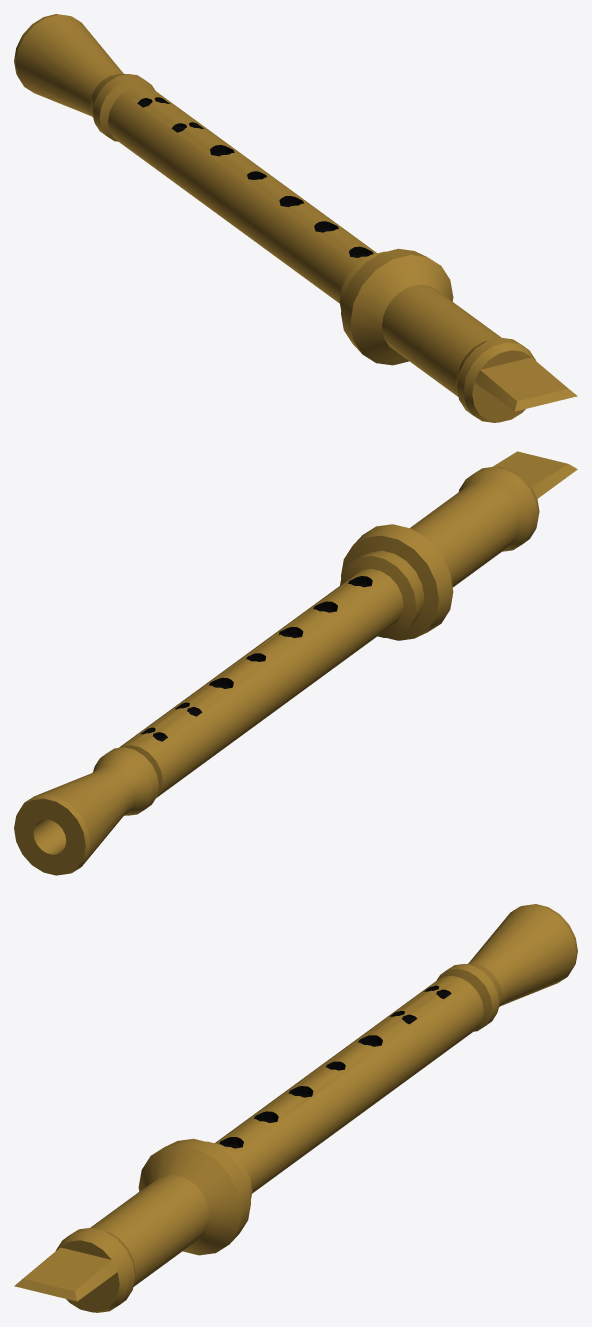
File: nokkahuilu.obj
The picture shows the model from 3 angles, top to bottom: view 1: azimuth 30°, elevation 25°; view 2: azimuth 150°, elevation 25°; view 3: azimuth 330°, elevation 25°; orthographic projection.
Visible parts, largest first — view 1: nokkahuilu; view 2: nokkahuilu; view 3: nokkahuilu.
Boxes of the visible parts, <box> form: nokkahuilu: <box>14,14,577,422</box>; nokkahuilu: <box>14,451,577,875</box>; nokkahuilu: <box>14,904,577,1312</box>.
Bounding box in the file's own units: 0.0383 × 0.0377 × 0.3193.
